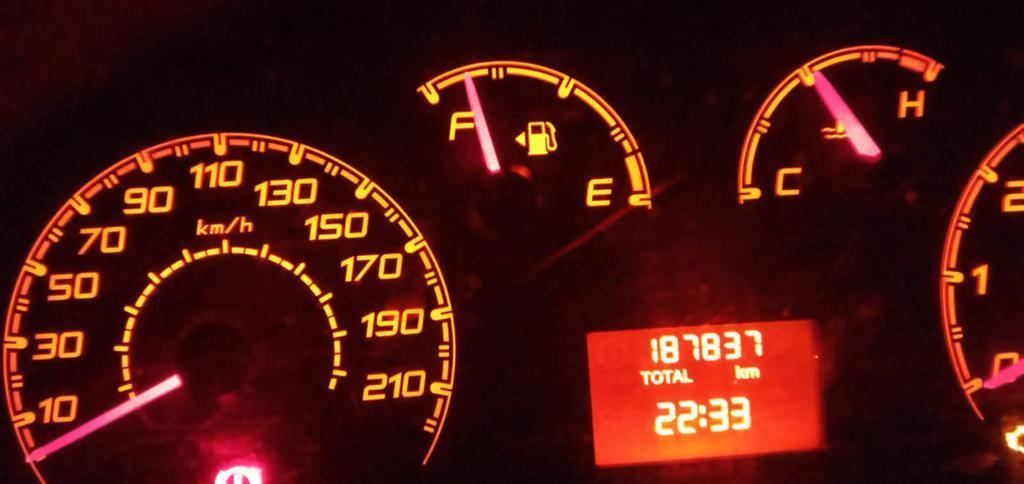1: (650, 333, 658, 363)
2: (653, 399, 674, 434), (677, 398, 696, 434)
3: (729, 395, 751, 432), (708, 396, 728, 432), (722, 330, 741, 358)
7: (744, 326, 764, 357), (681, 331, 699, 360)
8: (700, 330, 720, 361), (659, 332, 678, 363)
X: (744, 365, 760, 379), (650, 368, 662, 385), (698, 403, 706, 428), (682, 366, 694, 382), (672, 367, 682, 384), (662, 368, 673, 383), (639, 369, 649, 385), (735, 363, 744, 379)
odometer: (578, 310, 829, 471)
